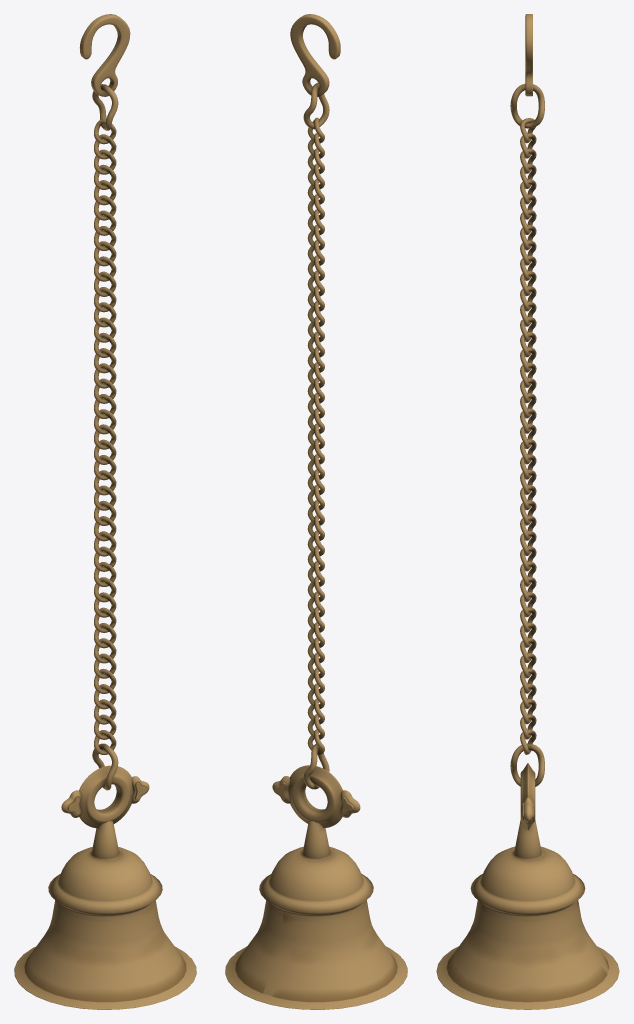
3 views of the same model, side by side, from view 1: azimuth 30°, elevation 25°; view 2: azimuth 150°, elevation 25°; view 3: azimuth 270°, elevation 25° (orthographic).
Parts seen in each view (by area): view 1: Cylinder.003; view 2: Cylinder.003; view 3: Cylinder.003.
Boxes of the visible parts, x1,y1,x2,y2 form: Cylinder.003: (14, 14, 196, 1009); Cylinder.003: (225, 14, 407, 1009); Cylinder.003: (436, 14, 619, 1009).
Bounding box in the file's own units: 0.558 × 3.32 × 0.558.
Materials: 1 (1 with a texture image).
